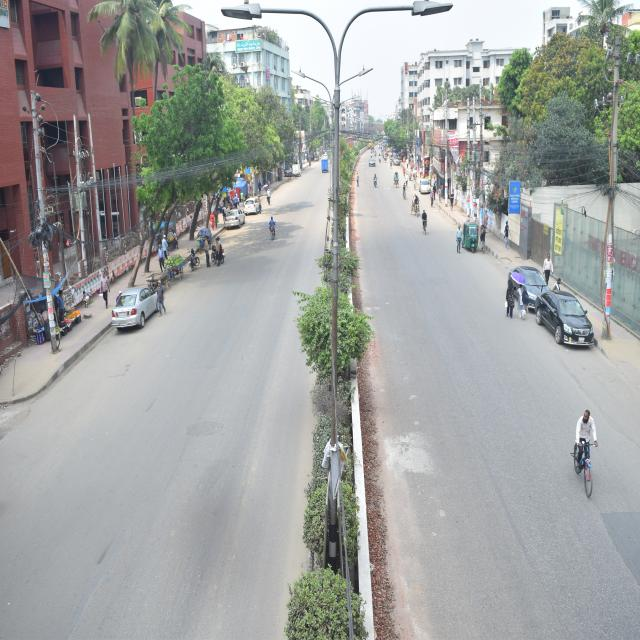car: (536, 272, 612, 364), (106, 267, 180, 342), (497, 256, 578, 323), (411, 170, 443, 220), (218, 197, 252, 236), (240, 188, 264, 226), (360, 144, 382, 175)
motorbike: (202, 218, 230, 288), (257, 204, 287, 254), (371, 169, 385, 206)
pickup-van: (286, 150, 310, 188), (321, 151, 333, 188)
